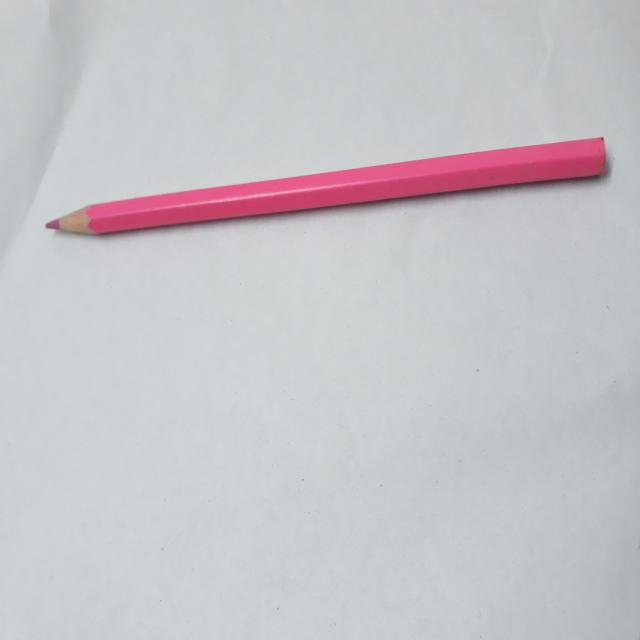pencil: (42, 128, 615, 244)
